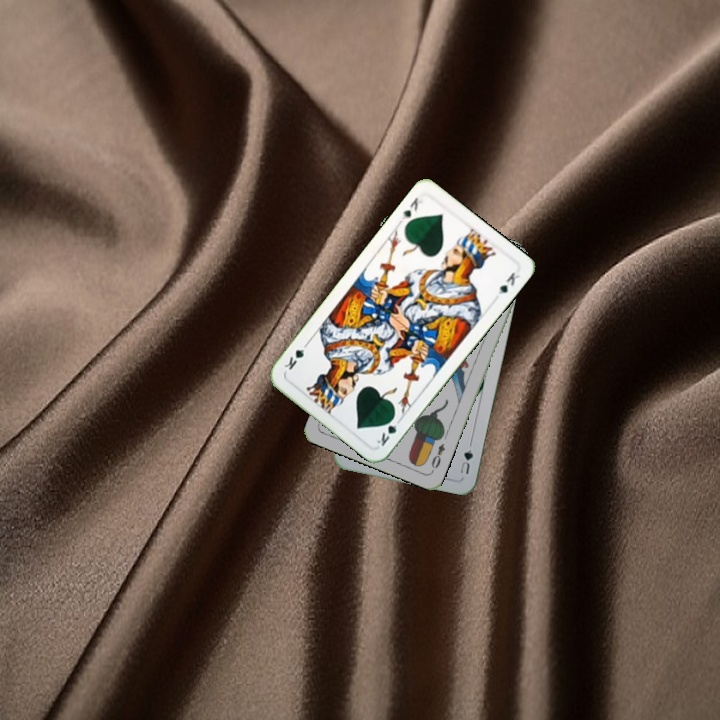EO: (427, 439, 448, 471)
GK: (373, 411, 404, 449), (398, 193, 425, 222)
GU: (456, 445, 476, 478)
